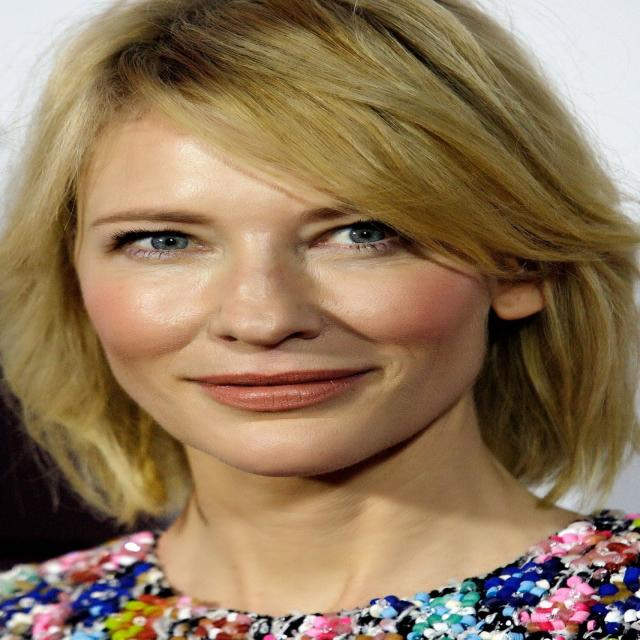earlobe: (492, 281, 544, 322)
eye: (114, 226, 216, 259), (304, 218, 405, 249)
nose: (204, 326, 326, 369)
